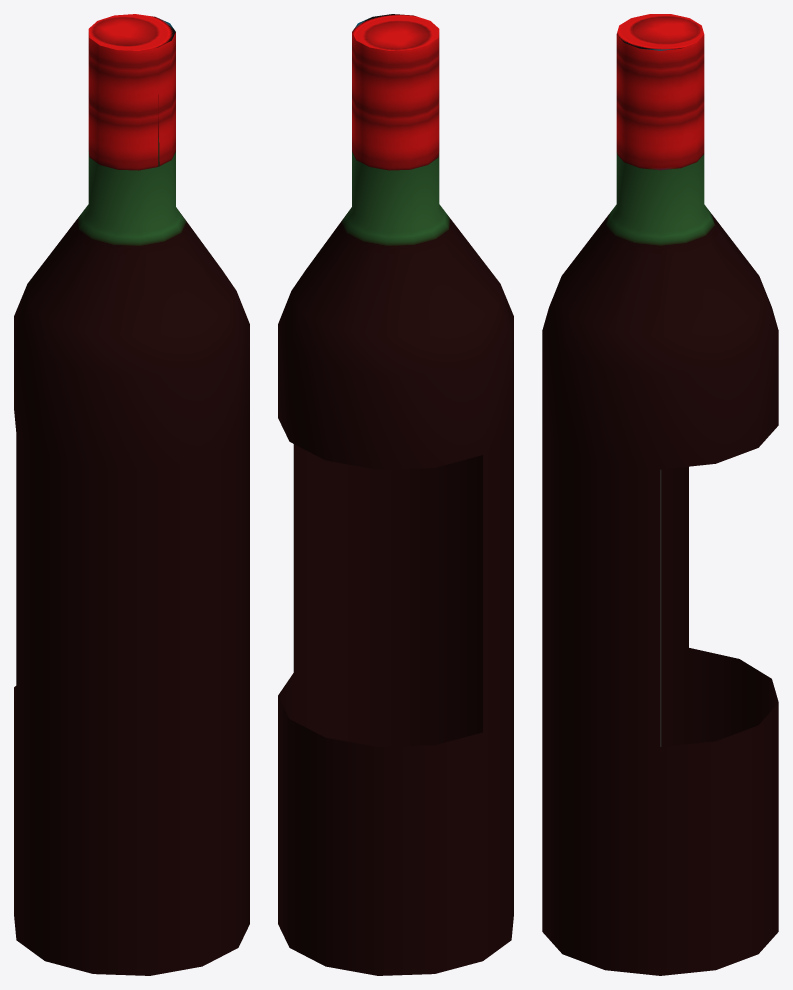
The model's file is Bottle_Wine.fbx.
The picture shows the model from 3 angles, left to right: view 1: azimuth 30°, elevation 25°; view 2: azimuth 150°, elevation 25°; view 3: azimuth 270°, elevation 25°; orthographic projection.
Parts seen in each view (by area): view 1: Bottle_Wine; view 2: Bottle_Wine; view 3: Bottle_Wine.
Boxes of the visible parts, <box> form: Bottle_Wine: <box>14,14,249,975</box>; Bottle_Wine: <box>278,14,513,975</box>; Bottle_Wine: <box>542,14,778,975</box>.
Size of the model in its own units: 7.64 by 32.06 by 7.69.
